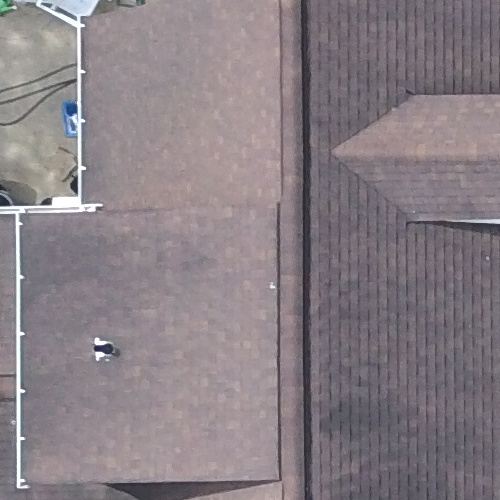container: (54, 91, 93, 143)
